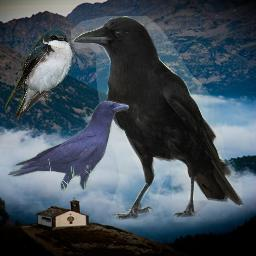Crow: (71, 16, 244, 222), (7, 100, 129, 199)
Swallow: (5, 26, 75, 119)
